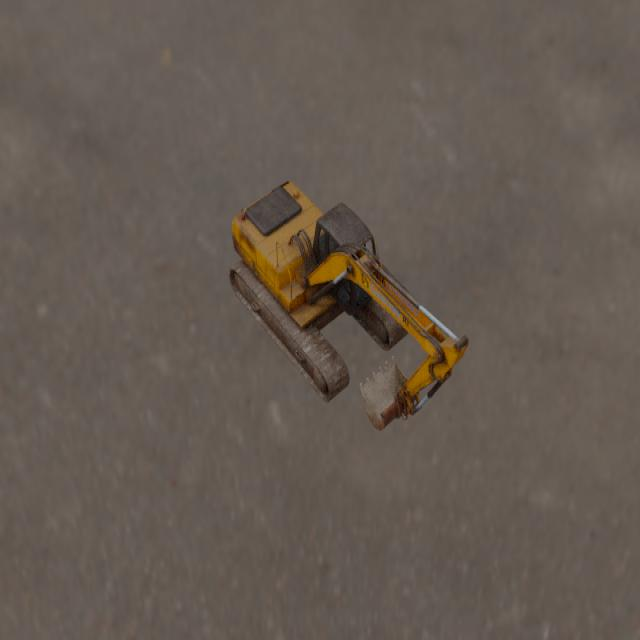excavator: (228, 180, 469, 431)
